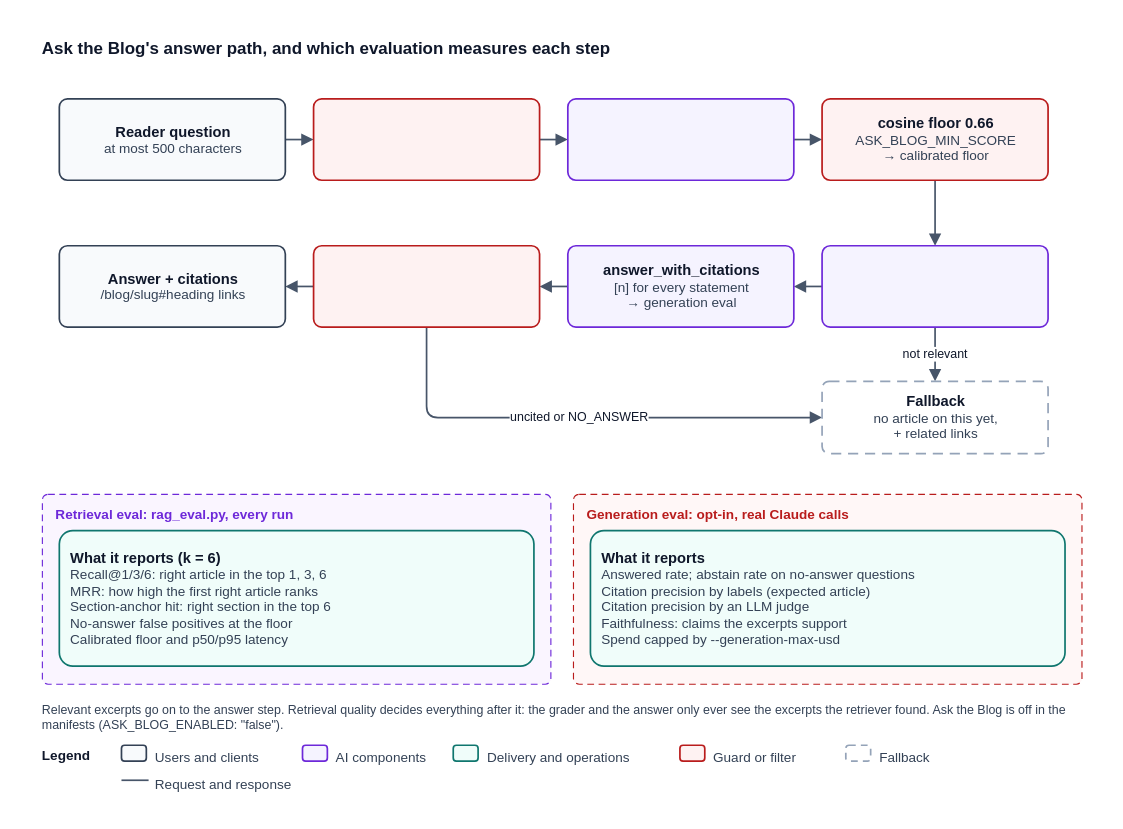
This 1123x829 diagram has some shape labels left out. The shapes that lost their labels are listed below. From the top down, each one's centre as x and y in pixels, then its label:
At point 426,139: "guard_input injection, personal data, off-topic patterns".
At point 680,139: "retrieve top 6 vector (default) or hybrid → retrieval eval".
At point 426,285: "guard_output uncited → fallback, links stripped".
At point 934,285: "grade_relevance keeps the excerpts that answer; Haiku".
